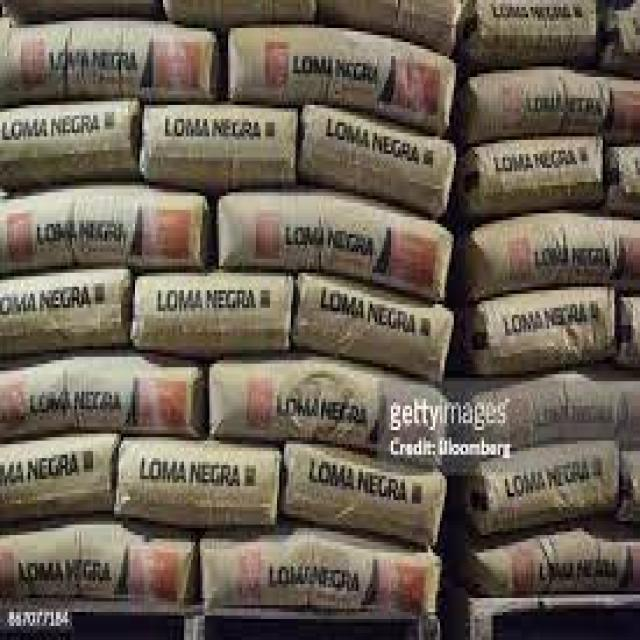cement_bag: (224, 200, 442, 295), (238, 28, 449, 122), (215, 376, 439, 455), (290, 441, 439, 545), (216, 543, 436, 613), (4, 202, 203, 270), (12, 33, 206, 102), (304, 286, 444, 381), (488, 440, 615, 538), (9, 371, 186, 441), (475, 285, 611, 376), (473, 373, 618, 458), (314, 115, 449, 193), (132, 448, 270, 523), (2, 271, 125, 355), (481, 541, 633, 608), (482, 215, 615, 286), (137, 280, 280, 346), (152, 108, 293, 170), (471, 72, 607, 130), (479, 140, 606, 202), (4, 107, 127, 165)
